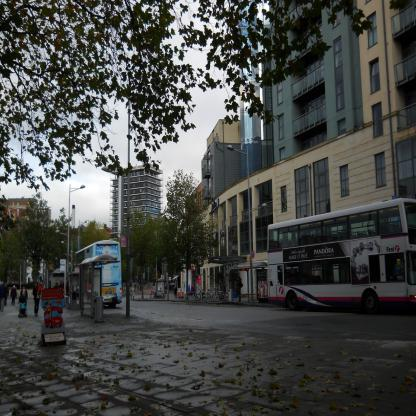Bus: (265, 199, 415, 314), (74, 239, 120, 307)
